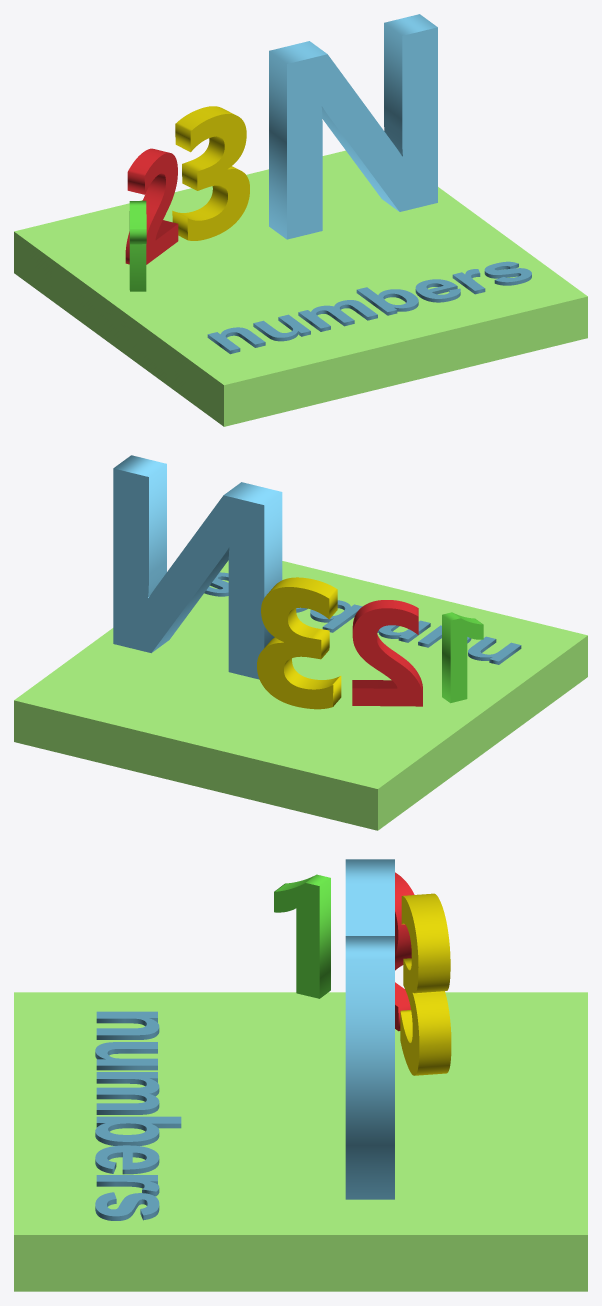
File: nletter.glb
3 renders of one model, top to bottom at view 1: azimuth 30°, elevation 25°; view 2: azimuth 150°, elevation 25°; view 3: azimuth 270°, elevation 25°, orthographic. The views are drawn at different scales.
Parts seen in each view (by area): view 1: Cube.022, Text.003, Text.005, Text.002, Text.006, Text.004; view 2: Cube.022, Text.003, Text.005, Text.006, Text.002, Text.004; view 3: Cube.022, Text.003, Text.002, Text.005, Text.004, Text.006.
Boxes of the visible parts, x1=… form: Cube.022: x1=14, y1=150, x2=587, y2=426; Text.003: x1=269, y1=14, x2=437, y2=239; Text.005: x1=172, y1=106, x2=249, y2=240; Text.002: x1=207, y1=261, x2=531, y2=354; Text.006: x1=125, y1=148, x2=178, y2=264; Text.004: x1=129, y1=200, x2=146, y2=291; Cube.022: x1=14, y1=560, x2=587, y2=830; Text.003: x1=113, y1=455, x2=282, y2=679; Text.005: x1=257, y1=577, x2=341, y2=709; Text.006: x1=352, y1=600, x2=422, y2=706; Text.002: x1=204, y1=572, x2=521, y2=664; Text.004: x1=442, y1=612, x2=483, y2=703; Cube.022: x1=14, y1=992, x2=587, y2=1291; Text.003: x1=345, y1=859, x2=394, y2=1199; Text.002: x1=95, y1=1011, x2=181, y2=1220; Text.005: x1=400, y1=893, x2=451, y2=1075; Text.004: x1=274, y1=874, x2=330, y2=998; Text.006: x1=395, y1=872, x2=414, y2=1031.
Size of the model in its own units: 0.3237 by 0.1946 by 0.3237.
